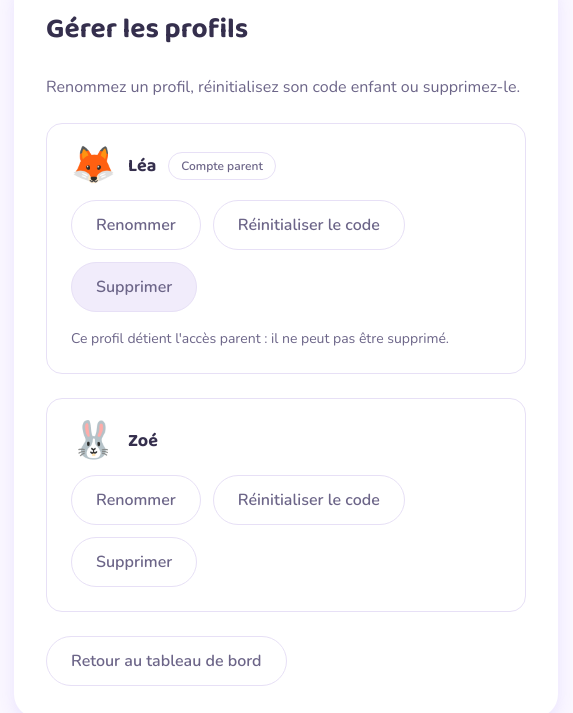
it: ProfileManager — renommer › erreur NAME_TAKEN → message d'erreur mappé, pas de refresh
This screenshot has width=573, height=713.
Click the button "Renommer" below "Zoé" at (136, 500), box [71, 475, 201, 525]
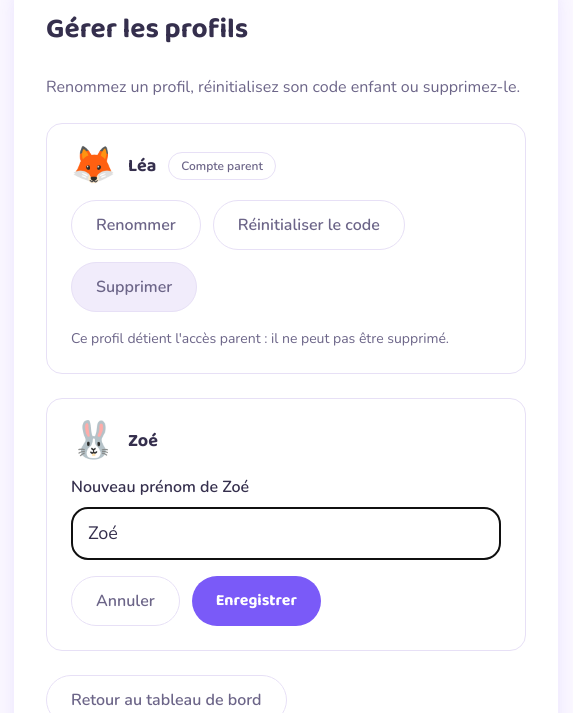
Replace the text in the field with "Léa" at (286, 534), box [71, 507, 501, 560]
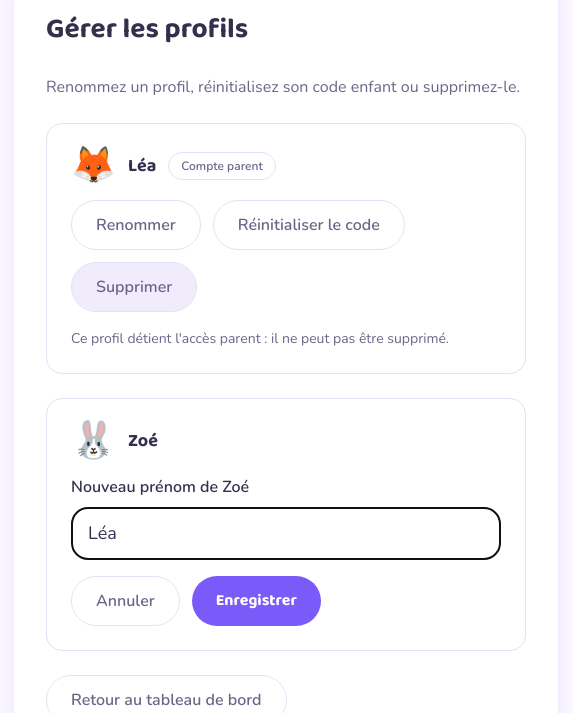
Click the button "Enregistrer" at (256, 601), box [192, 576, 321, 626]
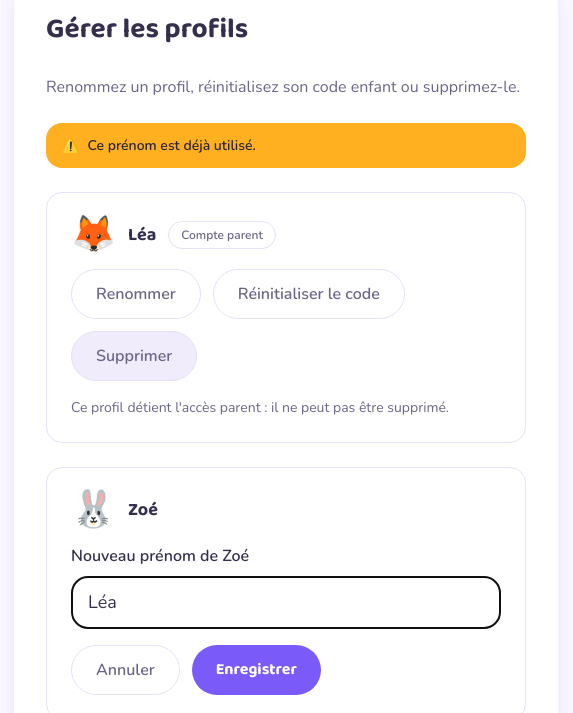
Expected: the message shows "Ce prénom est déjà utilisé.", [88, 136, 256, 155]
